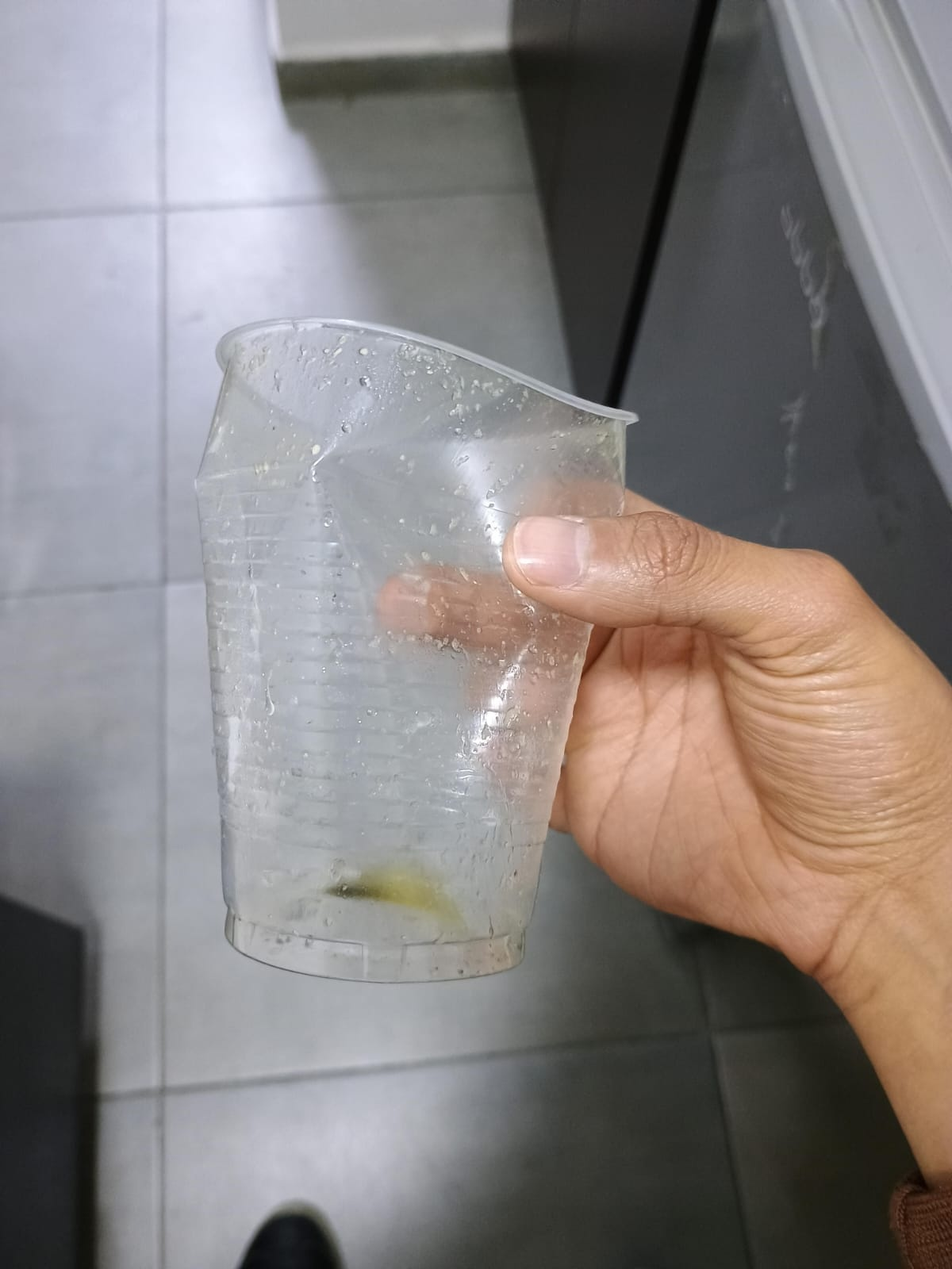Plastico: (193, 315, 636, 986)
